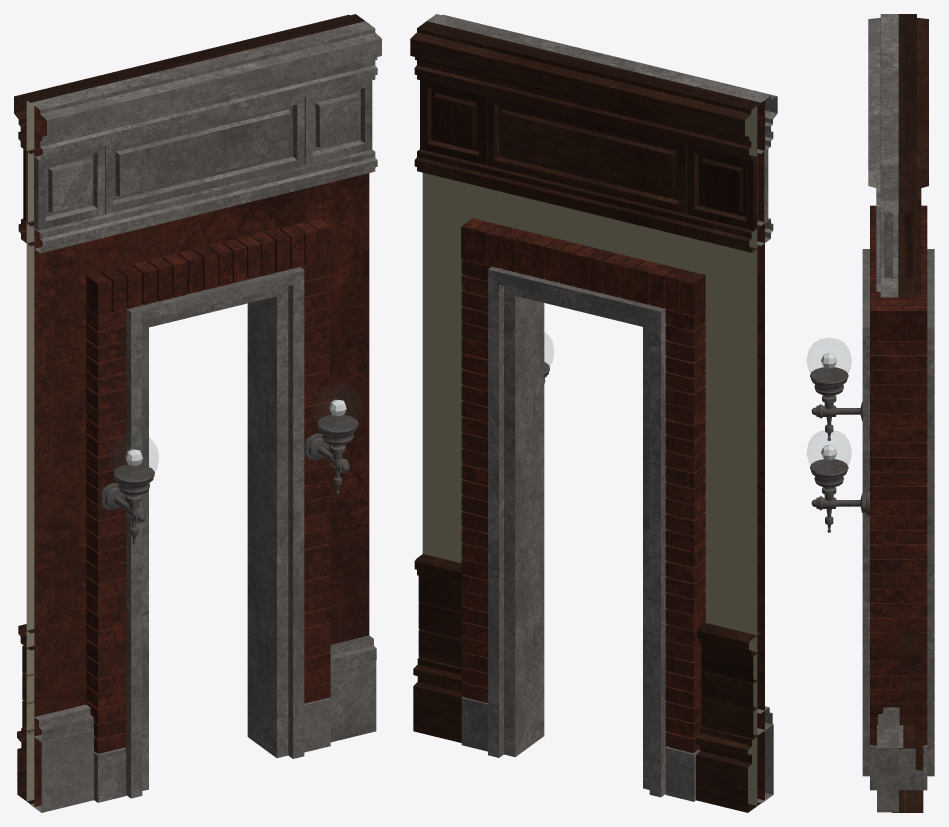
File: SK6 DOOR 1.fbx
3 renders of one model, left to right at view 1: azimuth 30°, elevation 25°; view 2: azimuth 150°, elevation 25°; view 3: azimuth 270°, elevation 25°, orthographic. The views are drawn at different scales.
Parts seen in each view (by area): view 1: SK6 DOOR 1; view 2: SK6 DOOR 1; view 3: SK6 DOOR 1.
Boxes of the visible parts, x1=… form: SK6 DOOR 1: x1=14, y1=14, x2=381, y2=812; SK6 DOOR 1: x1=410, y1=14, x2=777, y2=812; SK6 DOOR 1: x1=807, y1=14, x2=934, y2=812.
Bounding box in the file's own units: 200 × 400 × 71.62.
